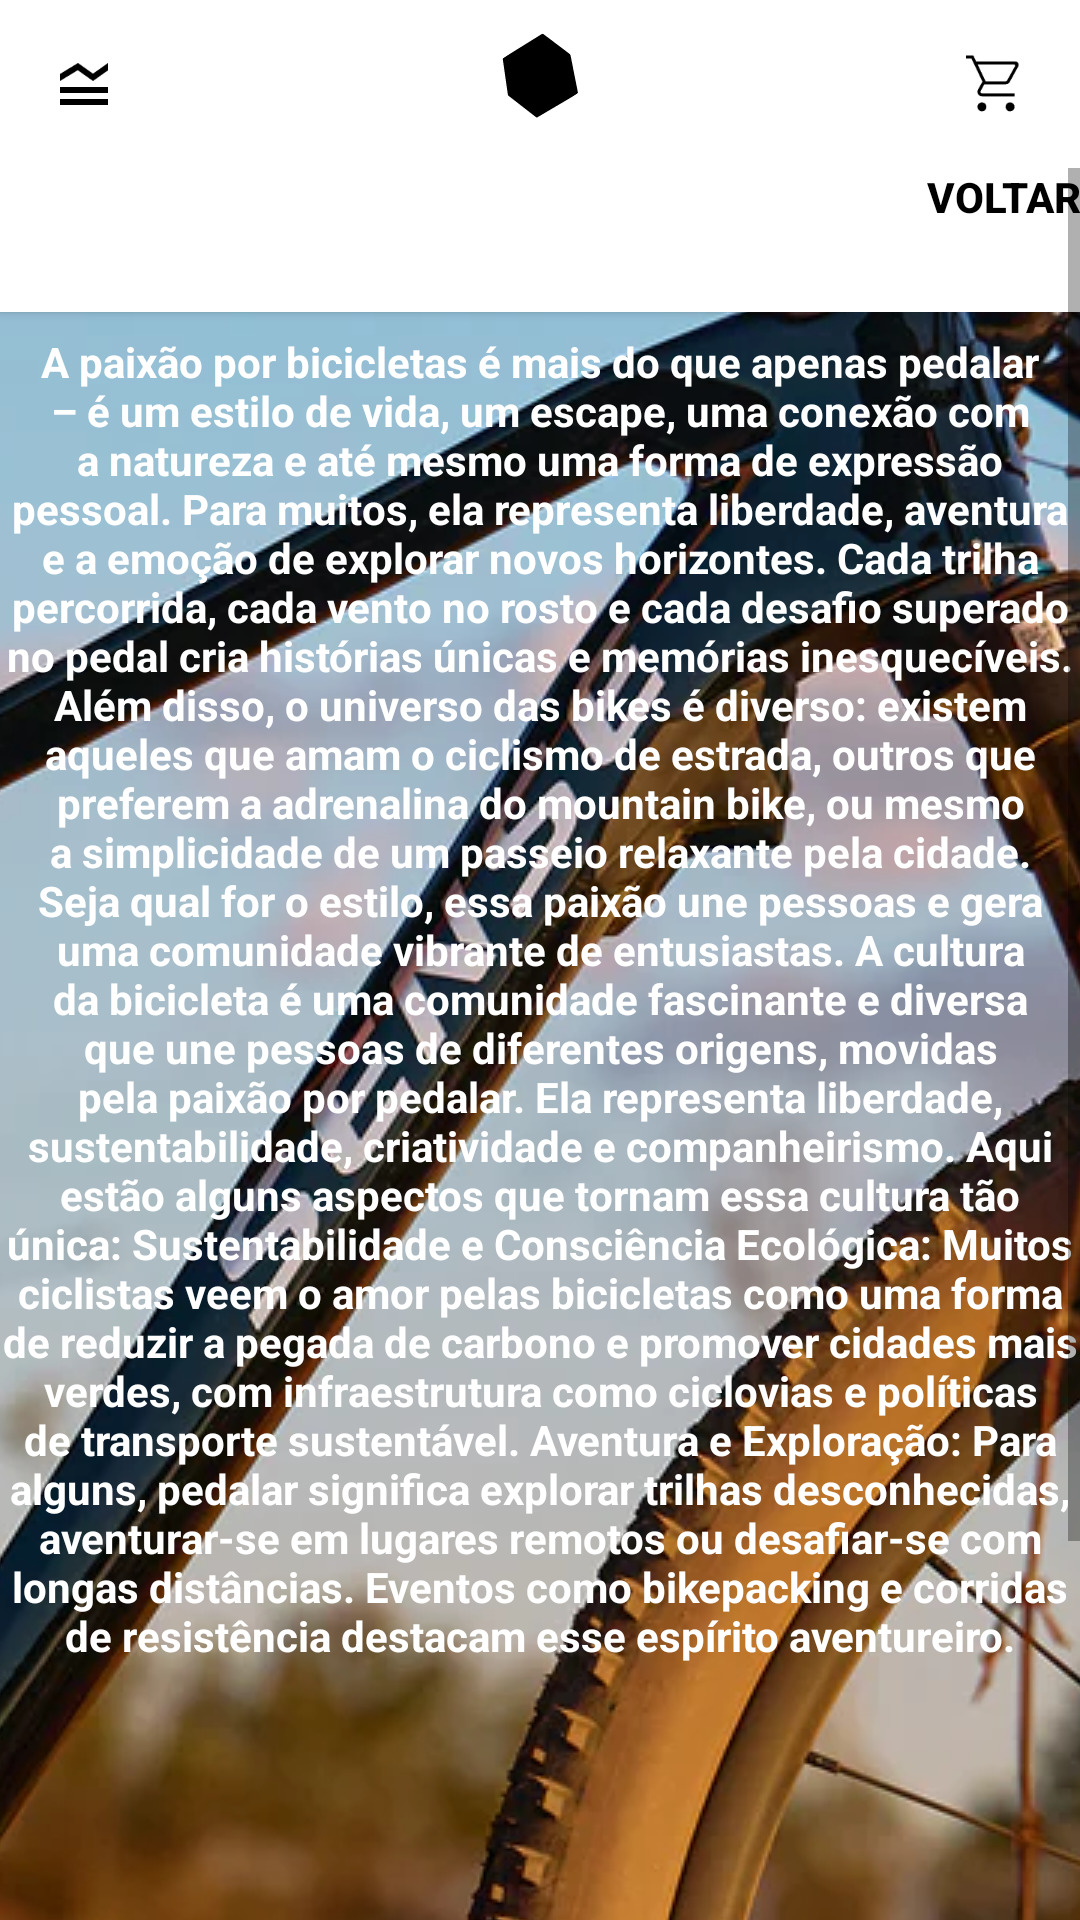

Screen size 1080px×1920px. Icon name, then its center in pixels as (x=x, y=y):
Buy: (x=992, y=83)
